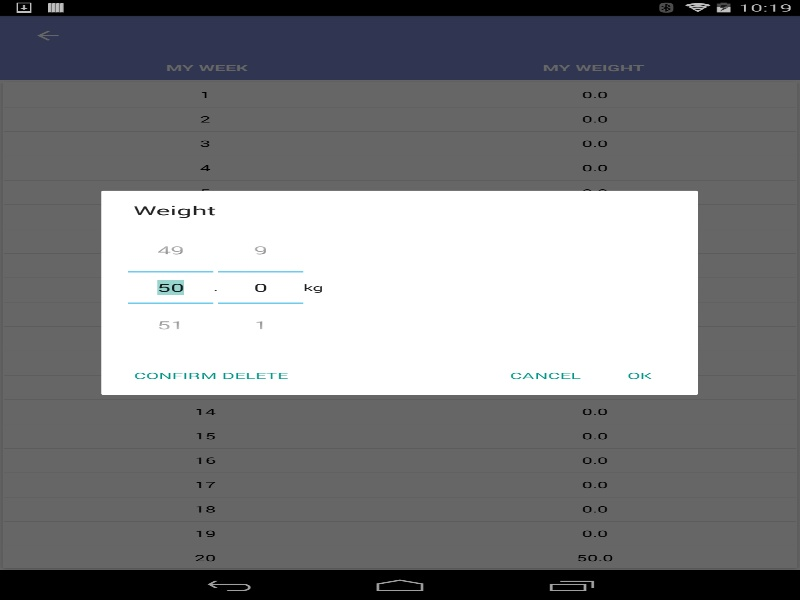Button: (117, 358, 304, 392), (128, 231, 213, 272), (128, 302, 213, 343), (218, 231, 303, 272), (218, 302, 303, 343), (494, 358, 596, 392), (596, 358, 682, 392)
Input: (128, 272, 213, 302), (218, 272, 303, 302)
